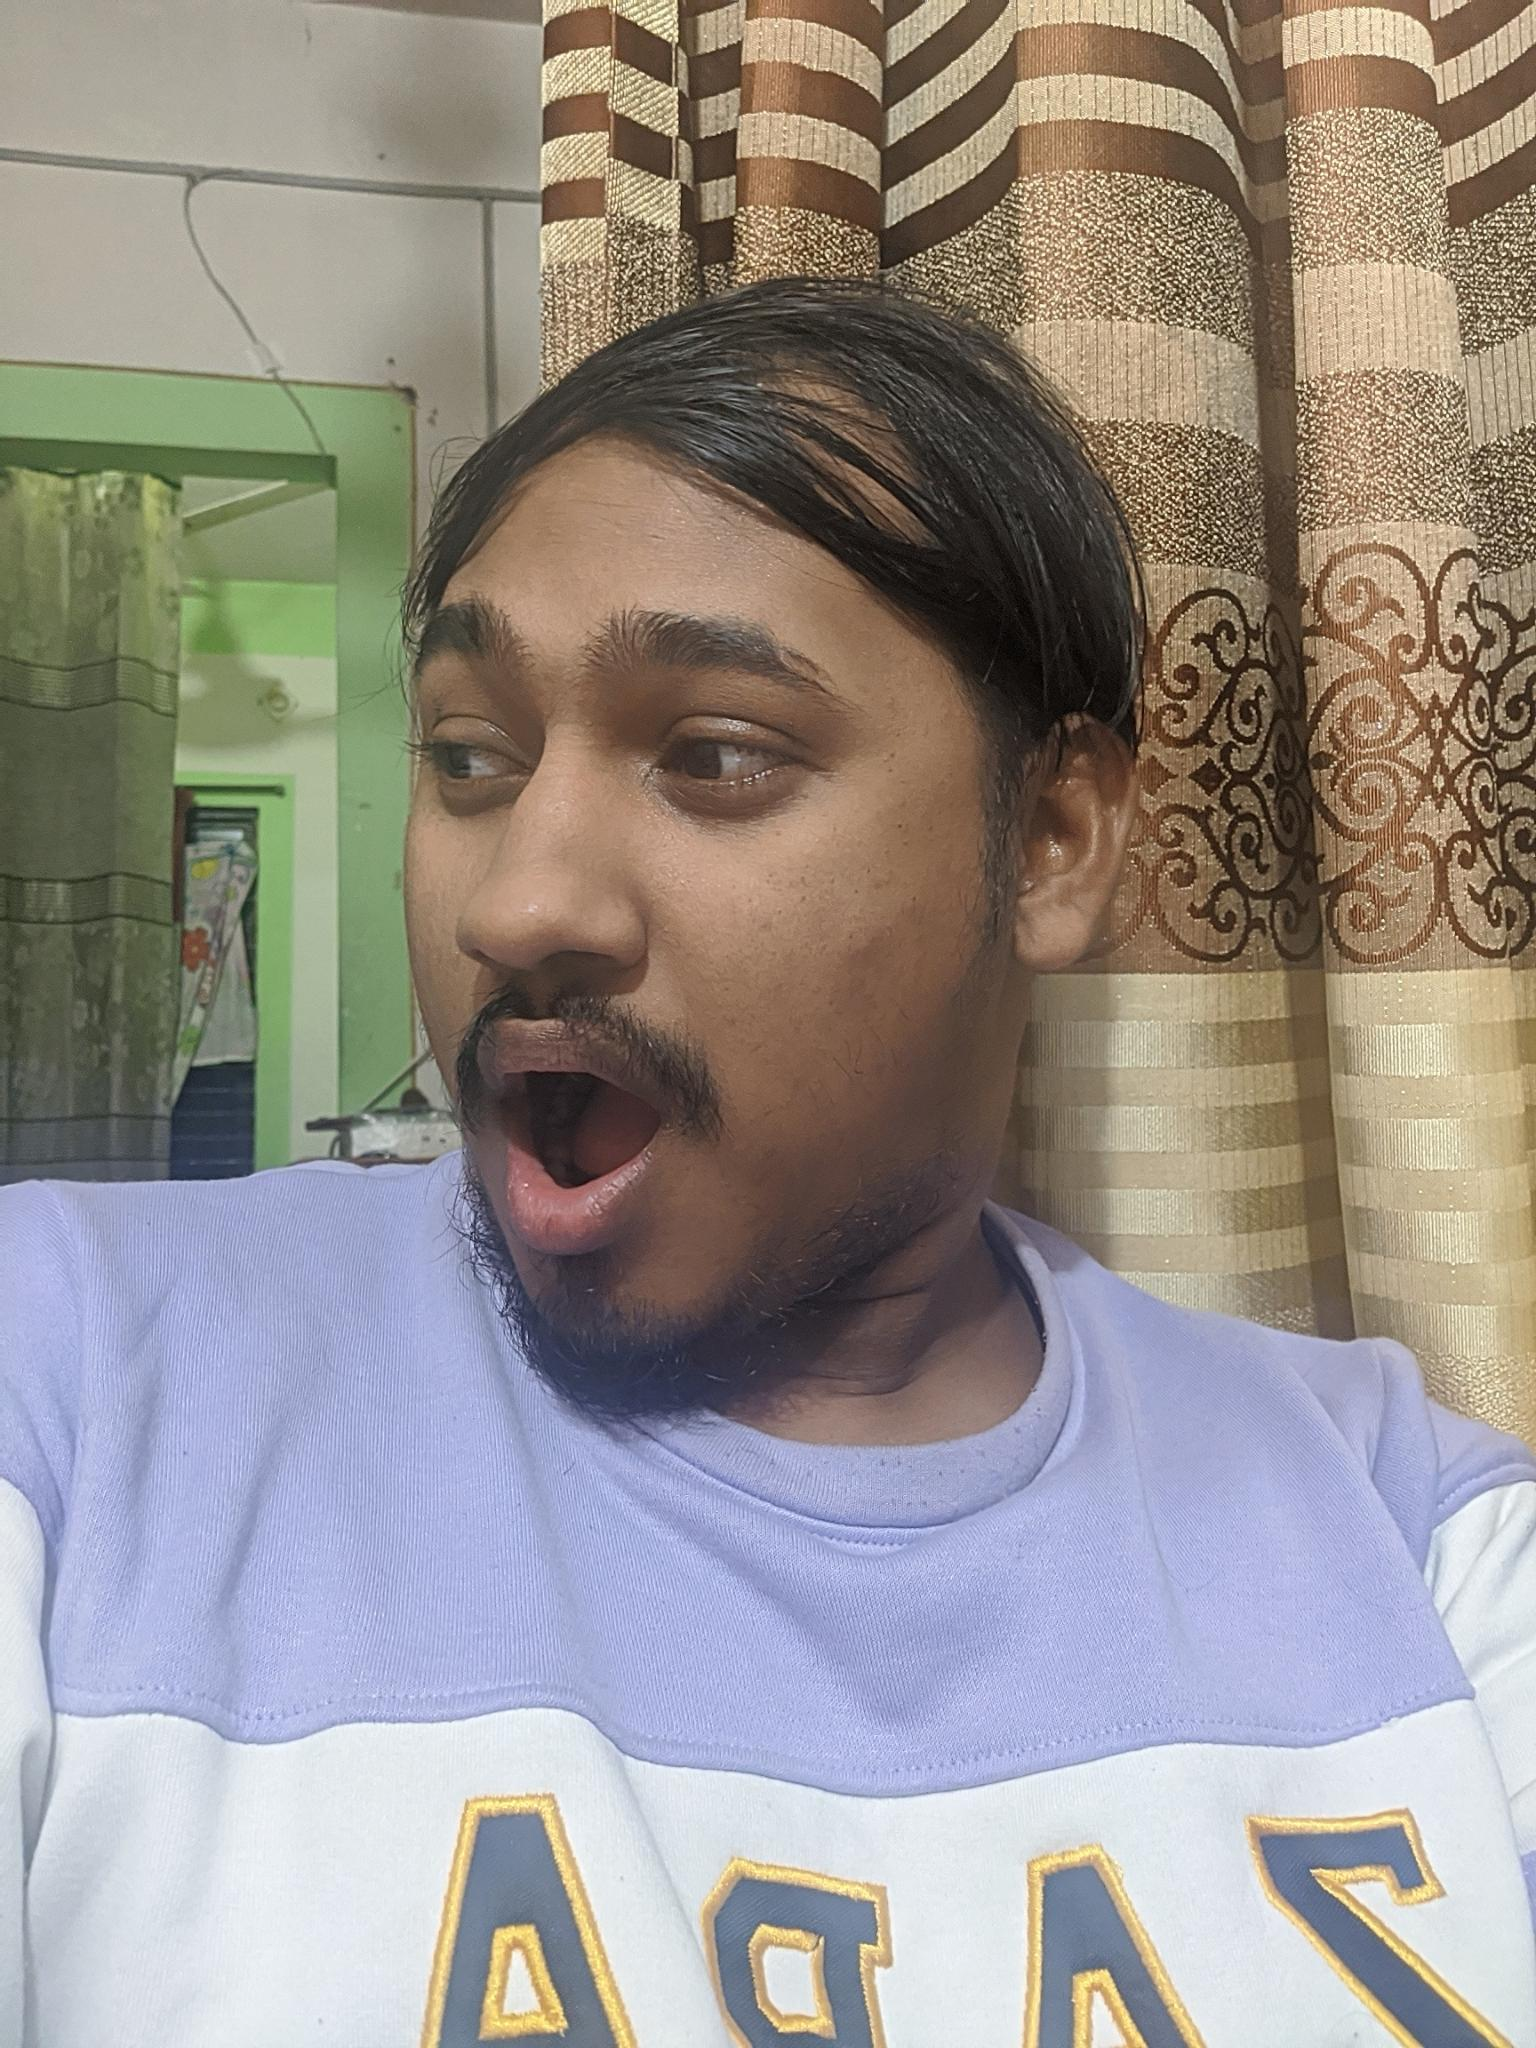Surprise: (334, 543, 923, 1372)
